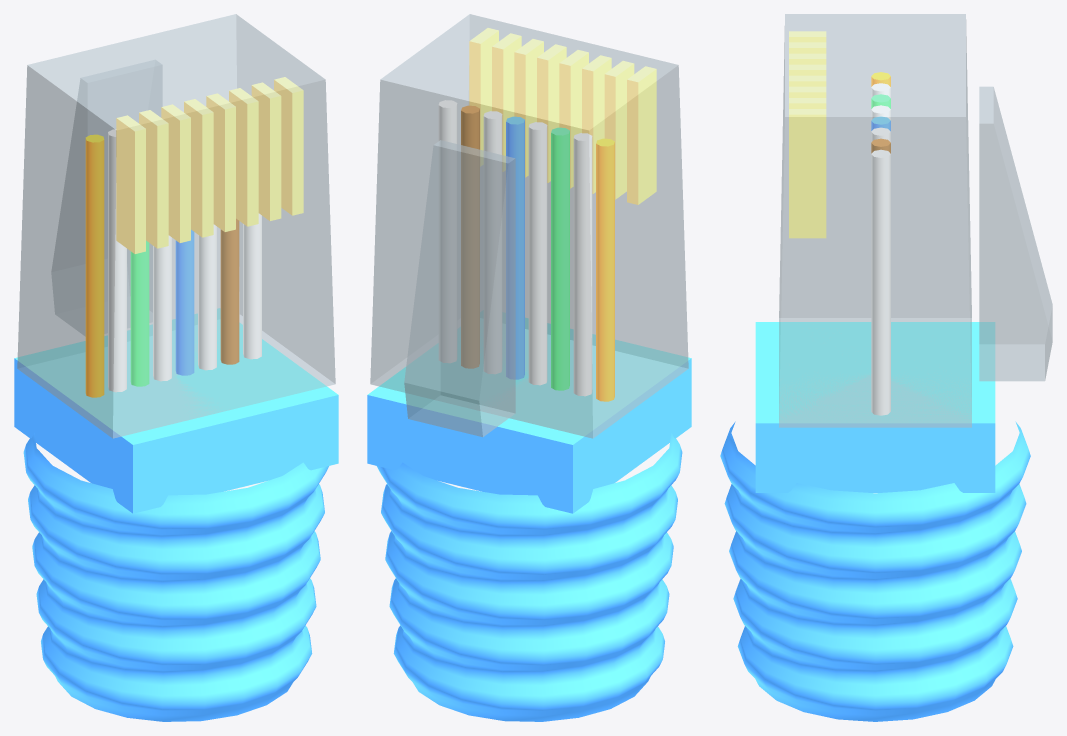
The picture shows the model from 3 angles, left to right: view 1: azimuth 30°, elevation 25°; view 2: azimuth 150°, elevation 25°; view 3: azimuth 270°, elevation 25°; orthographic projection.
Visible parts, largest first — view 1: plug, boot, contacts, wires (×5), clip; view 2: boot, plug, wires (×5), clip, contacts; view 3: boot, plug, clip, contacts, wires.
Part boxes in pixels (x1,y1,x2,y2): plug: [17, 14, 335, 438]; boot: [14, 308, 338, 721]; contacts: [116, 77, 303, 253]; wires (×5): [85, 129, 261, 397]; clip: [51, 60, 162, 335]; boot: [367, 318, 691, 721]; plug: [370, 14, 688, 438]; wires (×5): [438, 100, 614, 401]; clip: [404, 140, 515, 436]; contacts: [469, 28, 656, 204]; boot: [720, 322, 1030, 721]; plug: [779, 14, 971, 427]; clip: [979, 86, 1052, 381]; contacts: [789, 31, 826, 238]; wires: [871, 83, 890, 415].
Size of the model in its own units: 2.84 by 6.1 by 3.04.
